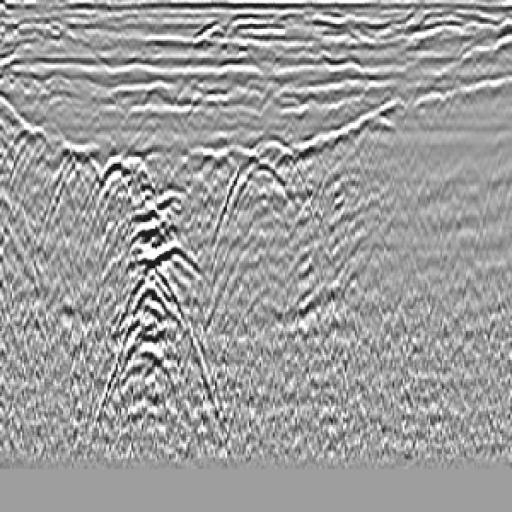metalic: (206, 130, 331, 279)
